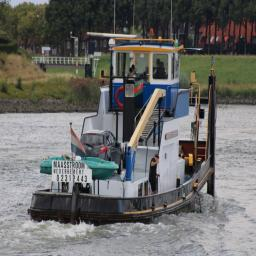tugboat: (27, 30, 220, 231)
